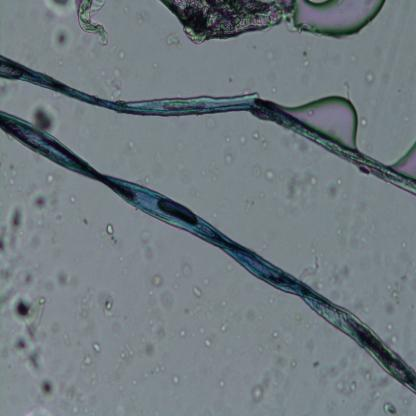Air bubble: (293, 88, 360, 148), (294, 0, 386, 42), (393, 142, 416, 176)
Background material: (11, 292, 48, 375), (0, 202, 29, 304), (285, 168, 322, 216), (40, 376, 87, 408), (324, 356, 359, 397), (346, 204, 375, 251), (262, 352, 290, 394), (142, 308, 165, 358), (382, 273, 408, 317), (83, 363, 125, 390), (360, 372, 388, 412), (98, 66, 124, 103), (297, 254, 323, 291), (71, 288, 96, 323), (327, 258, 350, 295), (30, 104, 59, 132), (131, 366, 166, 387), (324, 168, 345, 202), (52, 23, 73, 54), (99, 286, 116, 323), (47, 0, 77, 19), (291, 307, 313, 331), (50, 197, 61, 245), (355, 286, 372, 317), (145, 271, 162, 302), (140, 231, 156, 262), (104, 397, 130, 416), (26, 191, 48, 212), (0, 164, 18, 187), (56, 270, 79, 288), (384, 322, 400, 346), (295, 48, 314, 68), (248, 156, 262, 181), (252, 130, 268, 151), (119, 342, 135, 363), (202, 163, 218, 184), (46, 312, 61, 333), (279, 330, 294, 350), (264, 48, 279, 68), (165, 33, 182, 50), (105, 223, 118, 245), (116, 255, 130, 275), (250, 384, 265, 402), (363, 94, 376, 114), (382, 402, 400, 416), (221, 344, 235, 362), (162, 291, 176, 309), (136, 10, 152, 25), (73, 212, 88, 227), (118, 3, 133, 18), (84, 48, 100, 62), (180, 262, 192, 280), (60, 330, 72, 348), (184, 308, 205, 318), (205, 115, 218, 129), (238, 131, 248, 149), (220, 320, 232, 334), (246, 310, 258, 324), (137, 175, 151, 187), (307, 338, 316, 356), (225, 259, 237, 272), (81, 356, 92, 370), (92, 341, 103, 355), (45, 171, 55, 186), (364, 70, 374, 85), (146, 57, 158, 69), (265, 169, 275, 183), (193, 286, 203, 300), (202, 273, 212, 287), (127, 137, 136, 152), (202, 338, 213, 350), (222, 153, 233, 165), (245, 197, 253, 213), (269, 82, 278, 96), (196, 323, 207, 334), (218, 377, 226, 392), (56, 58, 66, 70), (360, 116, 369, 129), (69, 190, 76, 206), (172, 373, 180, 387), (322, 58, 332, 69), (117, 49, 126, 61), (179, 328, 187, 341), (311, 359, 324, 367), (261, 242, 271, 252), (258, 186, 266, 198), (402, 109, 410, 121), (290, 358, 298, 370), (218, 297, 226, 307), (350, 53, 358, 63), (272, 331, 280, 339), (225, 132, 230, 143)
Cellulose filter fibre: (158, 1, 290, 43), (75, 0, 110, 47)
Cotton: (0, 110, 416, 394), (0, 50, 416, 195)
